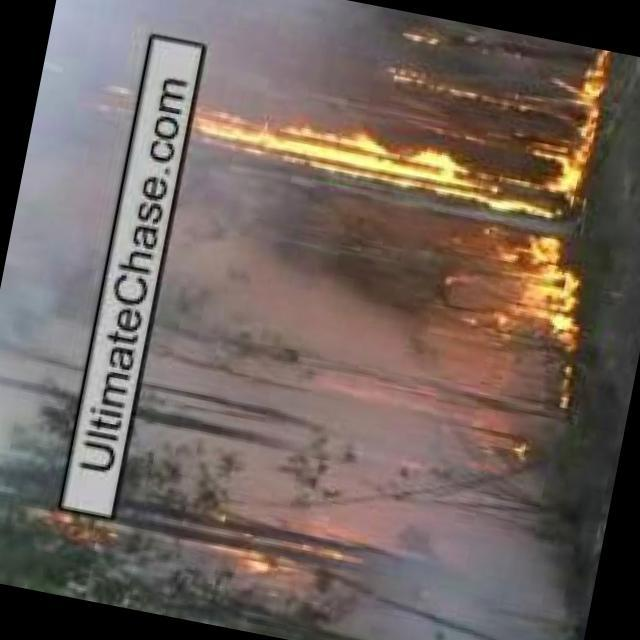Fire: (103, 83, 595, 235), (480, 222, 591, 371), (216, 506, 359, 594), (539, 42, 621, 165), (383, 63, 520, 110), (467, 430, 543, 470), (47, 502, 112, 545), (402, 27, 458, 51)
